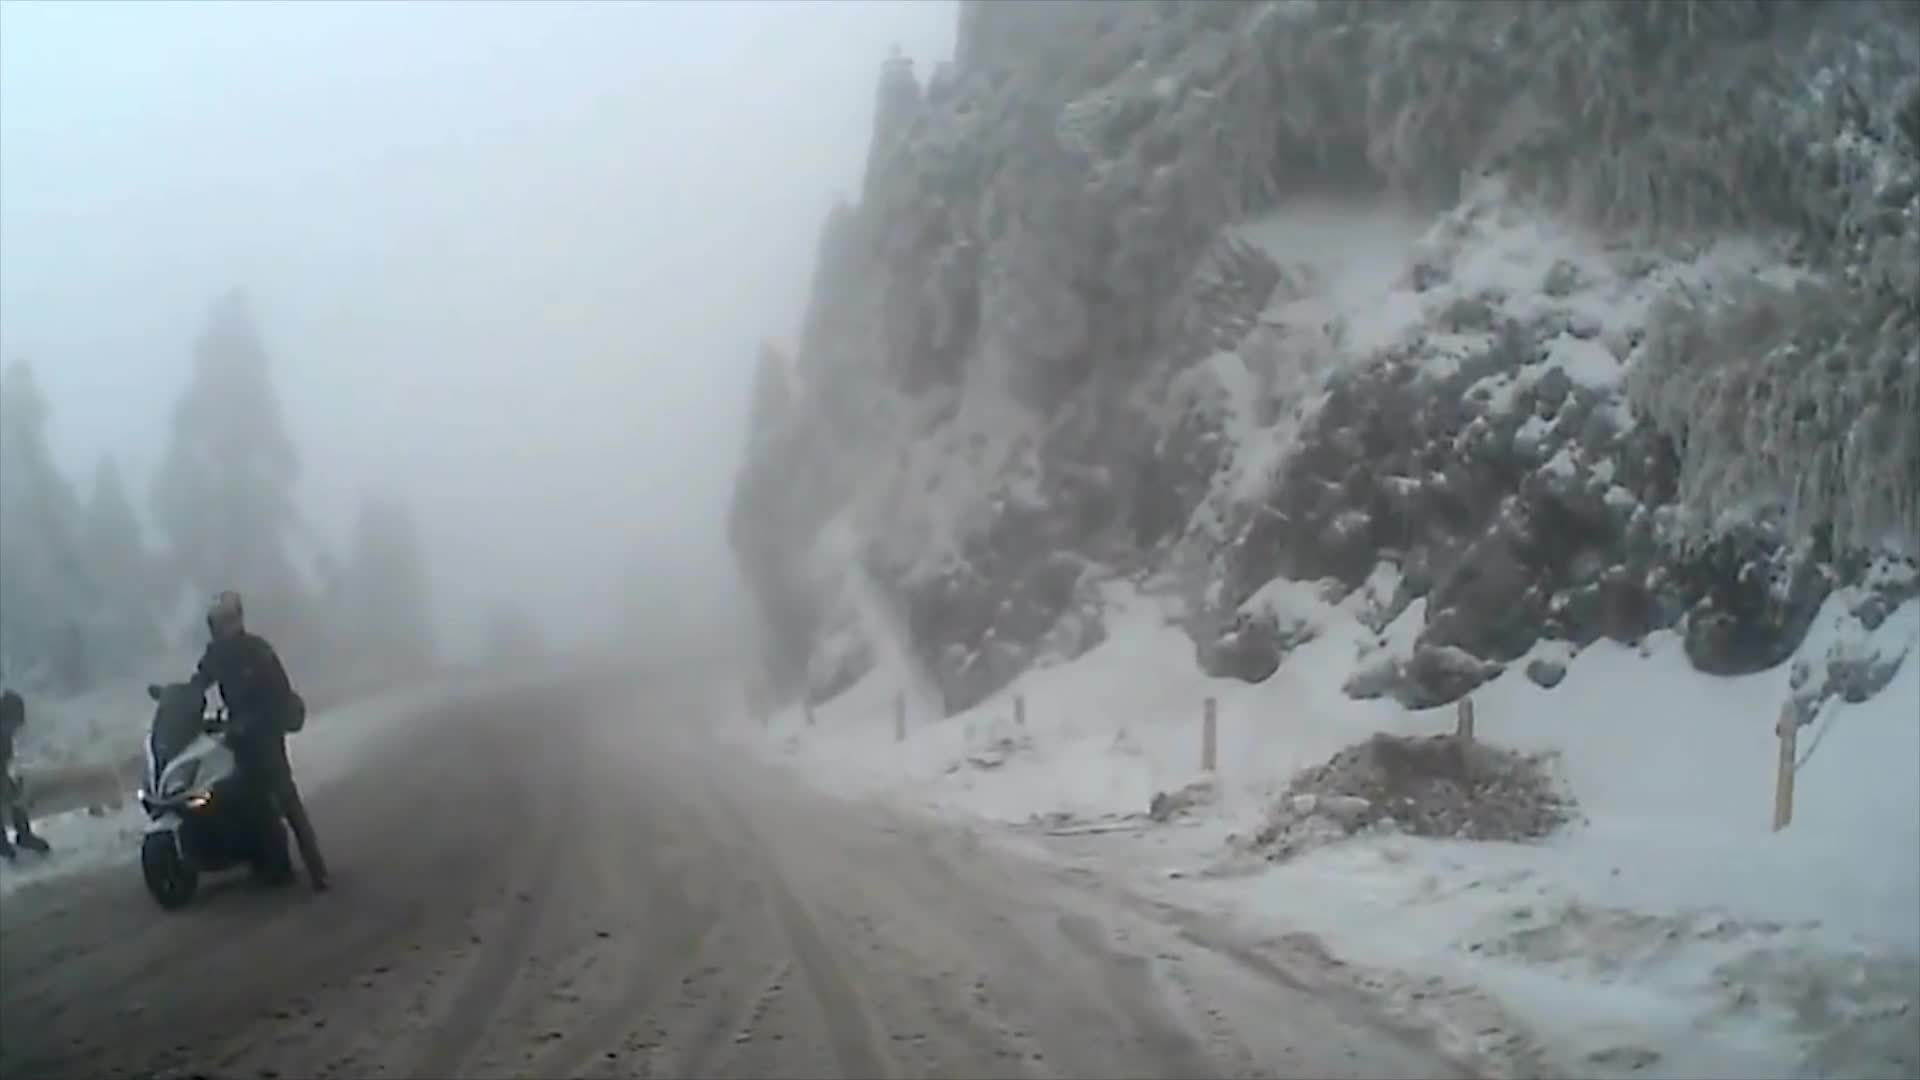pedestrian: (158, 577, 333, 896), (1, 693, 47, 866)
